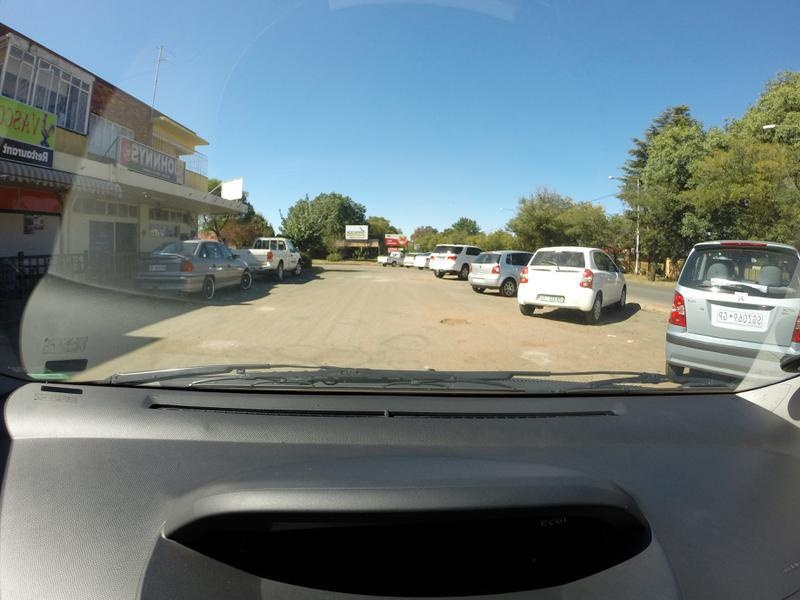pothole: (436, 311, 474, 328)
